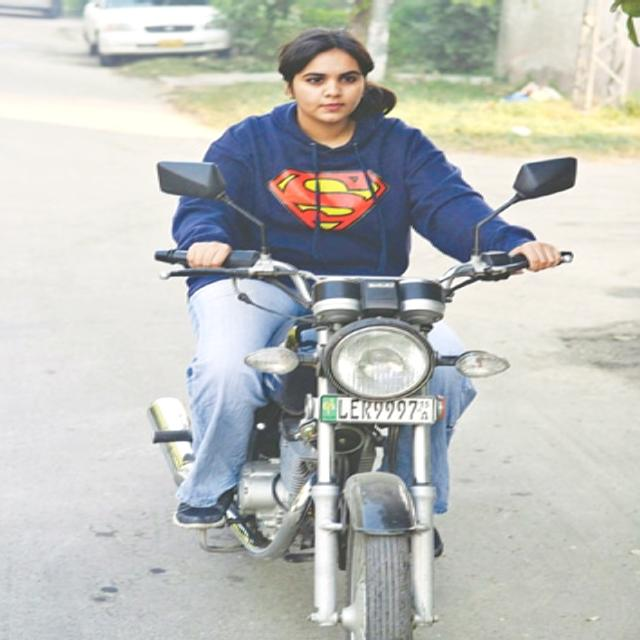Without Helmet: (278, 29, 378, 119)
